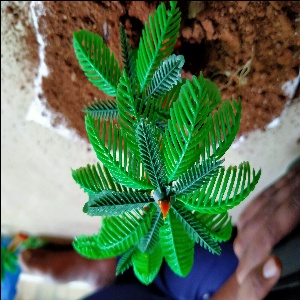plant: (71, 3, 262, 287)
